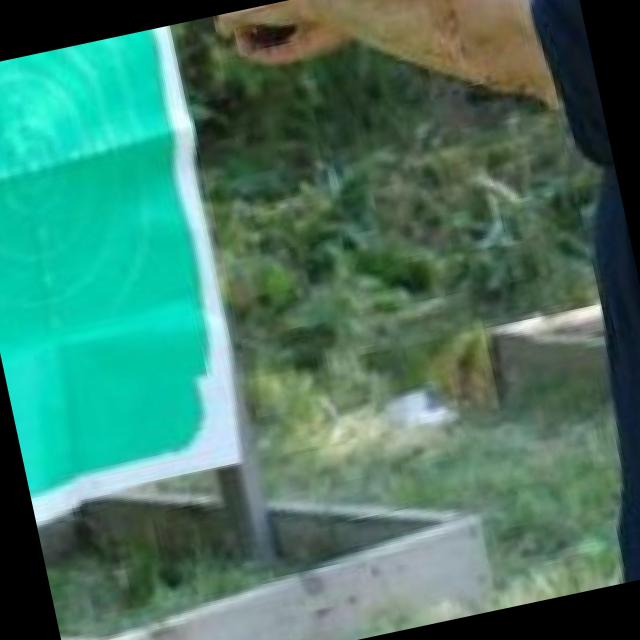Guns: (95, 0, 356, 97)
